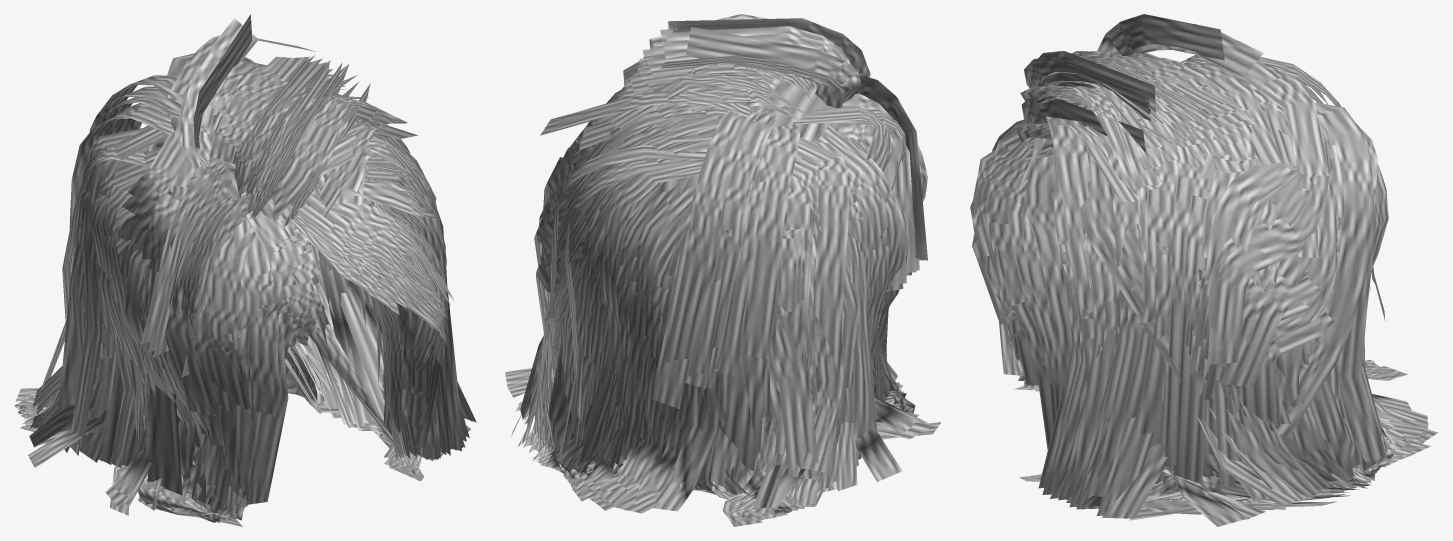
Rendered from daz_hair_o4saken_long.glb.
3 views of the same model, side by side, from view 1: azimuth 30°, elevation 25°; view 2: azimuth 150°, elevation 25°; view 3: azimuth 270°, elevation 25° (orthographic). The views are drawn at different scales.
Visible parts, largest first — view 1: daz_hair_o4saken_long; view 2: daz_hair_o4saken_long; view 3: daz_hair_o4saken_long.
Boxes of the visible parts, x1,y1,x2,y2 form: daz_hair_o4saken_long: (14, 14, 476, 526); daz_hair_o4saken_long: (505, 14, 941, 526); daz_hair_o4saken_long: (970, 14, 1438, 526).
Bounding box in the file's own units: 0.2869 × 0.2764 × 0.2836.
1 material, 1 textured.
